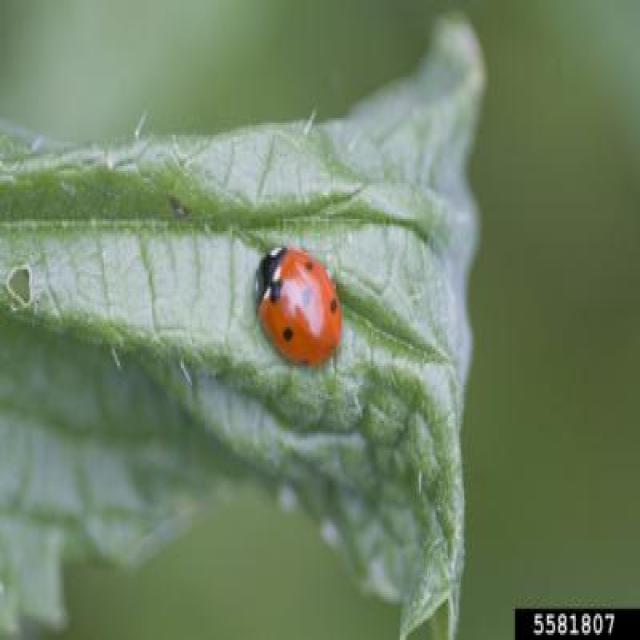body: (254, 246, 340, 365)
insect: (252, 246, 342, 365)
wings: (259, 248, 340, 364)
